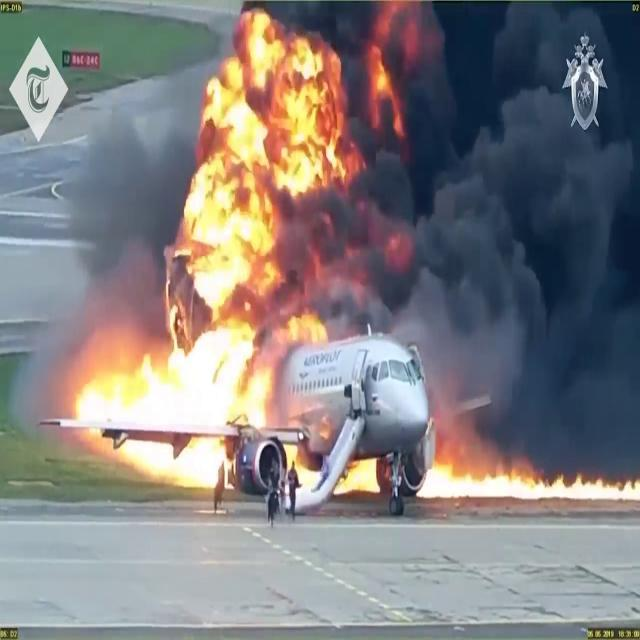Fire: (65, 6, 362, 488), (423, 448, 640, 506), (336, 452, 382, 500)
Smoke: (297, 2, 640, 369), (44, 104, 198, 358)
